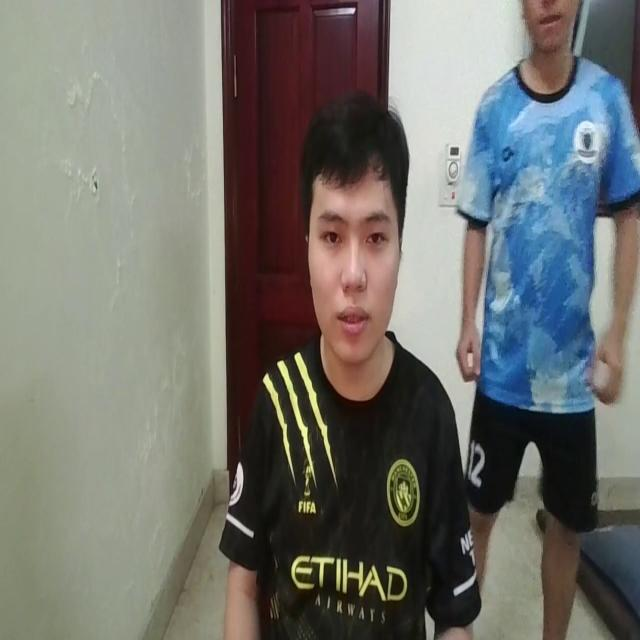extra_person: (458, 0, 640, 640)
student: (231, 82, 471, 640)
